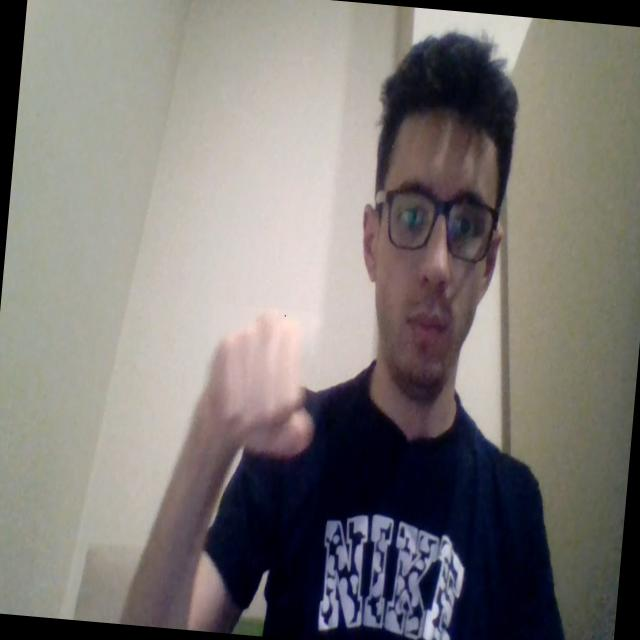yes: (200, 303, 325, 462)
